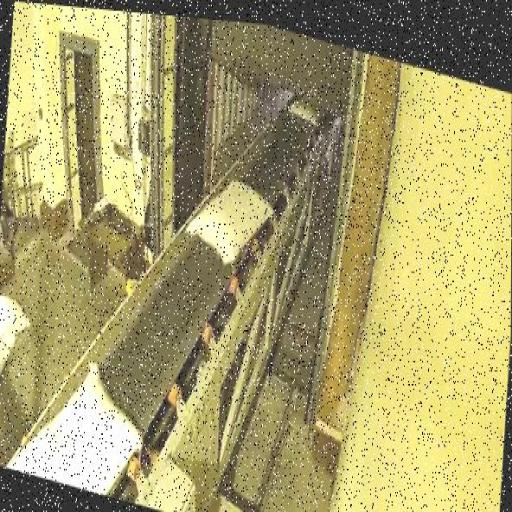c-belt-sack-count: (7, 365, 141, 492), (187, 180, 271, 262), (289, 103, 318, 125)
